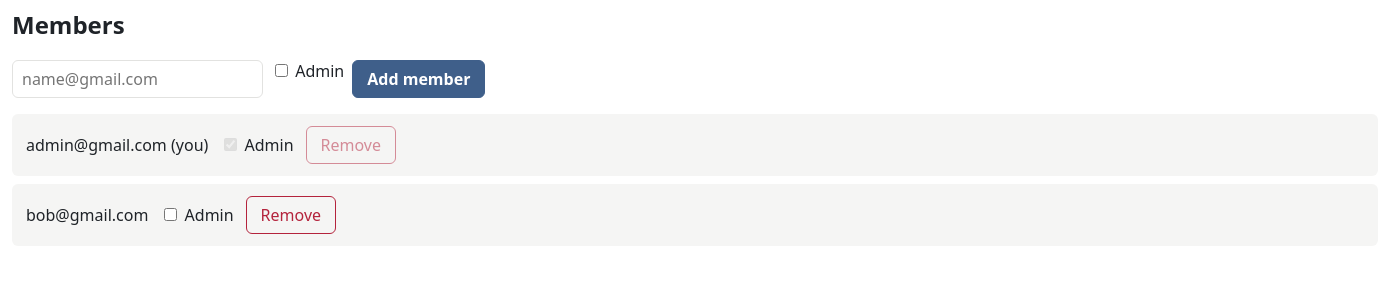
Test: Members › shows an error when adding fails
Type "new@gmail.com" into the field named "Email to add" at (138, 79), box [12,60,263,98]
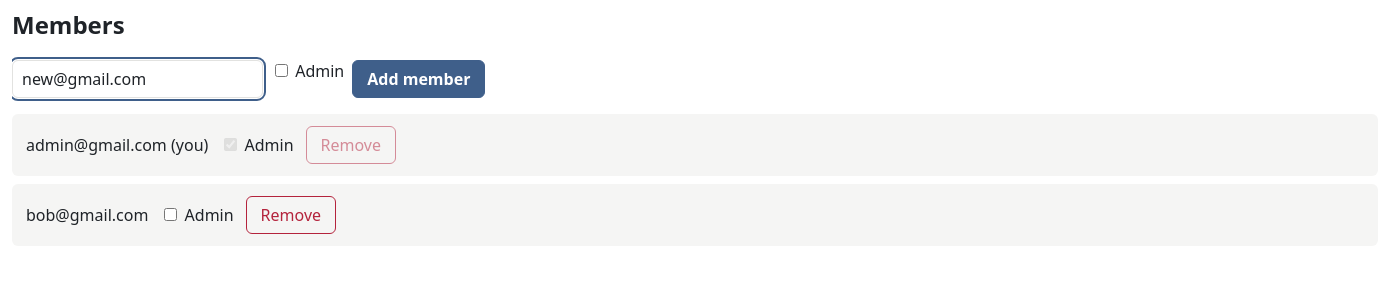
Click the button "Add member" at (419, 79), box [352,60,485,98]
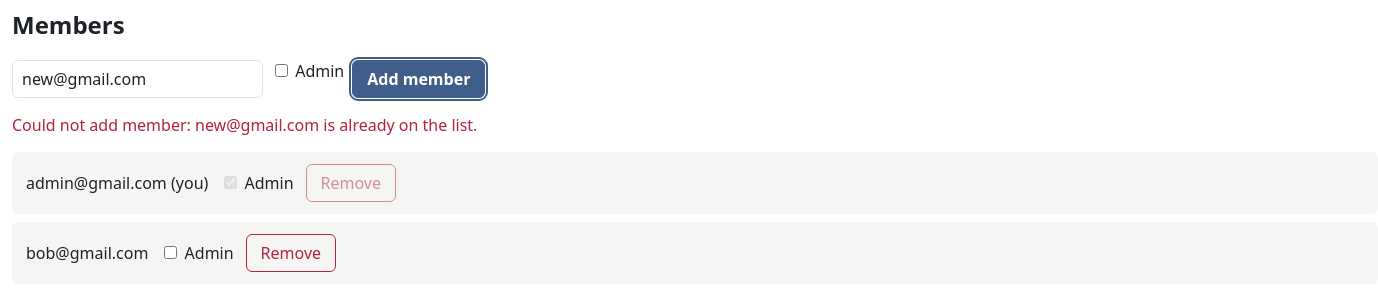
Expected: the message reads "Could not add member: new@gmail.com is already on the list.", [12,114,477,136]
